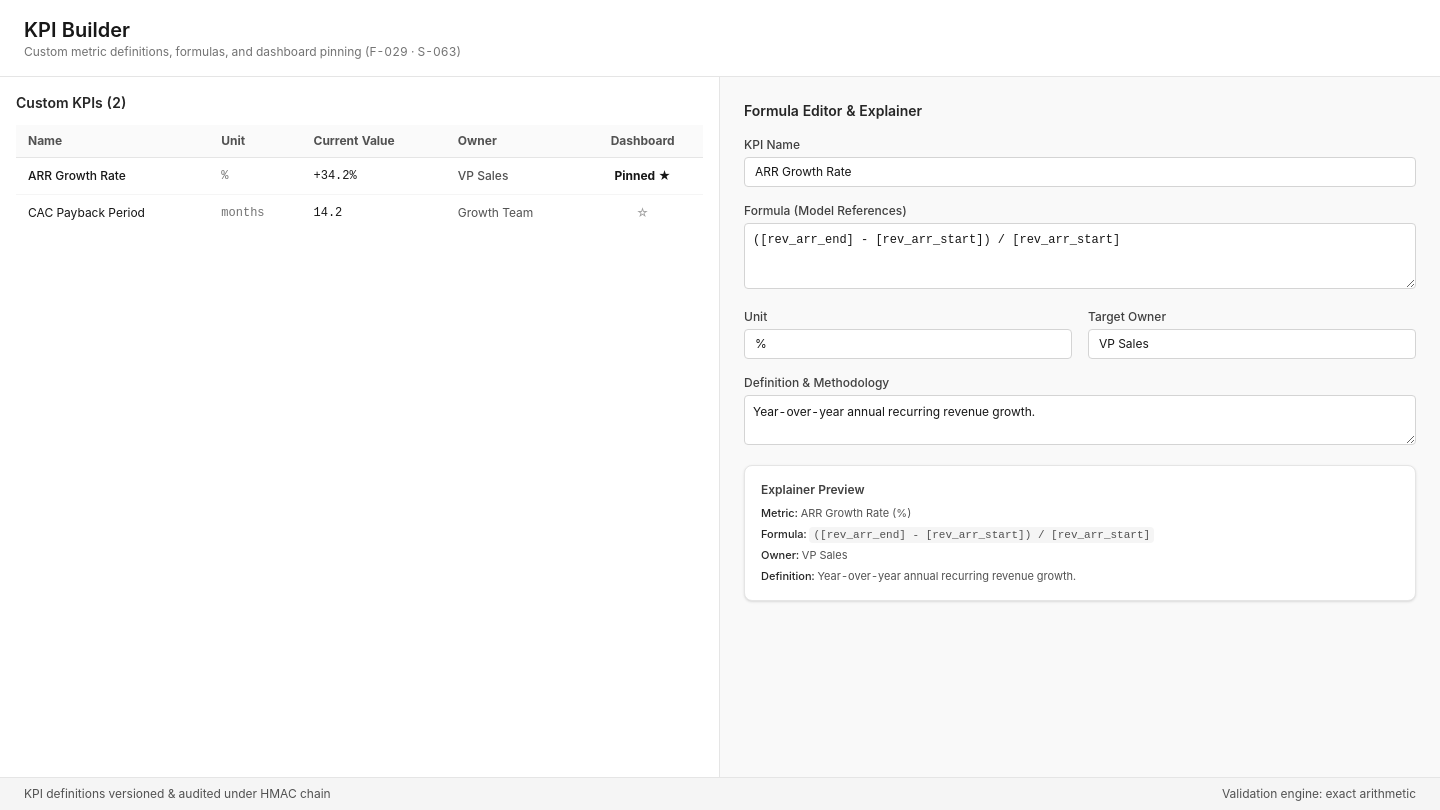
S-063 KpiBuilderPage (F-029 · M6-4) › toggles dashboard pin on KPI row
The image size is (1440, 810).
Step 1. Click the button with test id "pin-kpi-kpi-cac" → (643, 213), box [636, 205, 649, 221]
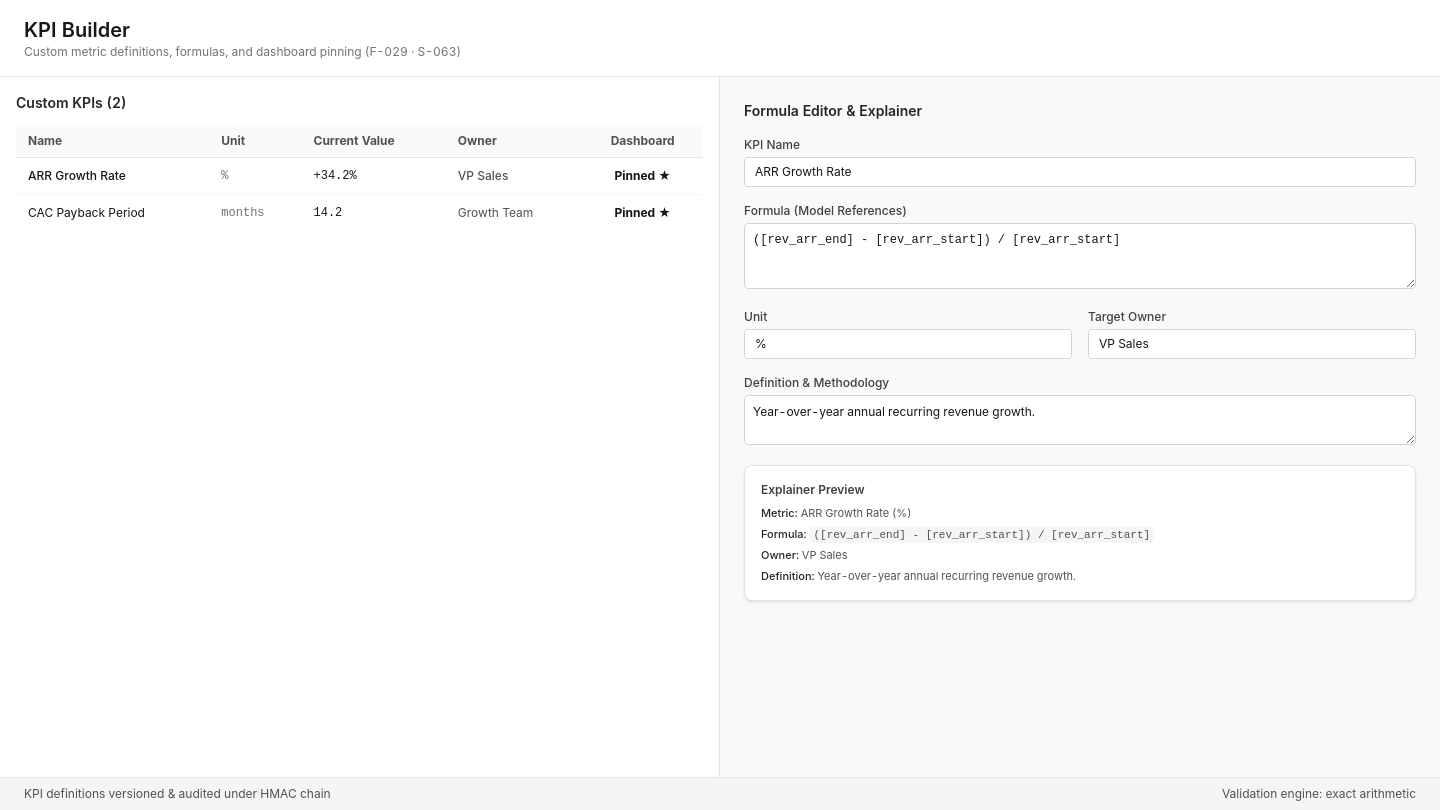
Expected: the button with test id "pin-kpi-kpi-cac" reads "Pinned ★", [614, 205, 671, 221]
